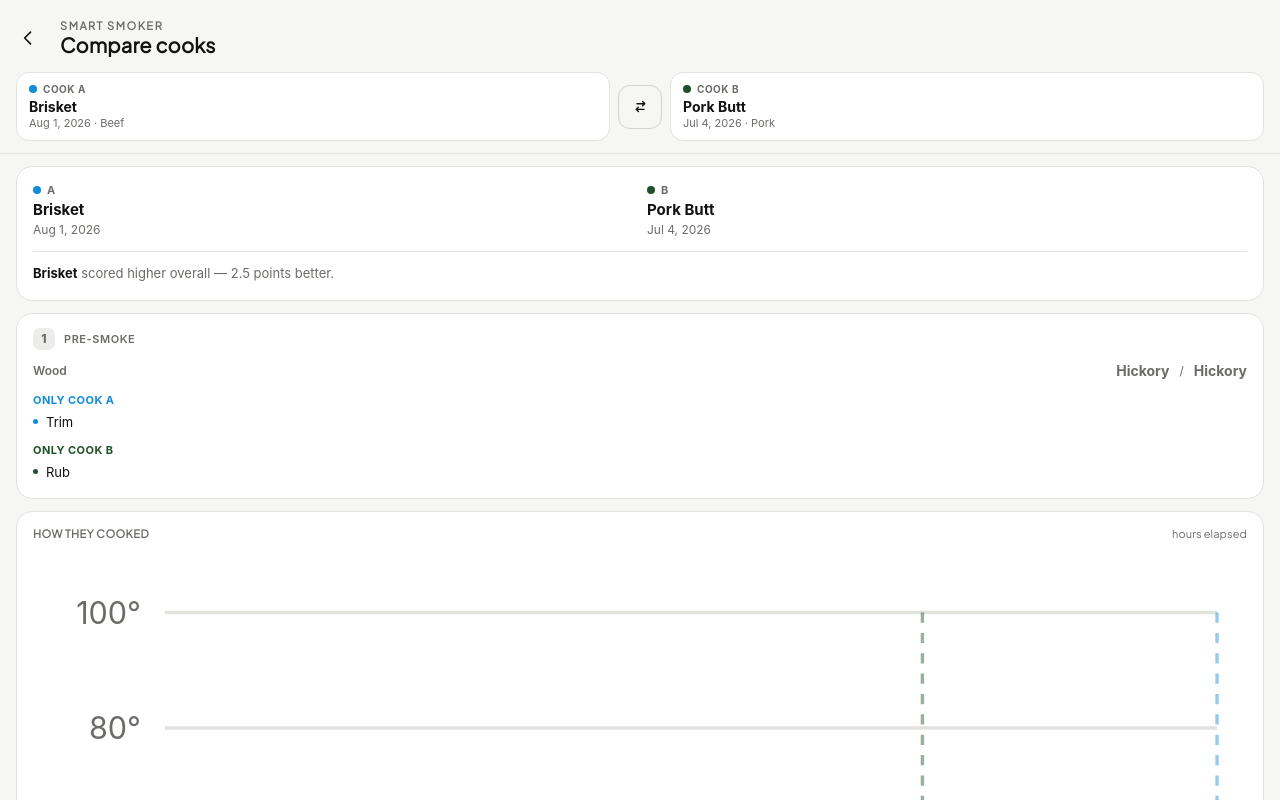
Test: CompareScreen › the cook in the other slot is offered as in use rather than as a choice
This screenshot has width=1280, height=800.
Expected: the element with test id "compare-summary" is shown, 16,166 -> 1264,300
Click the button with aria-label "Change cook B": [714, 89] box 670,72 -> 1264,141
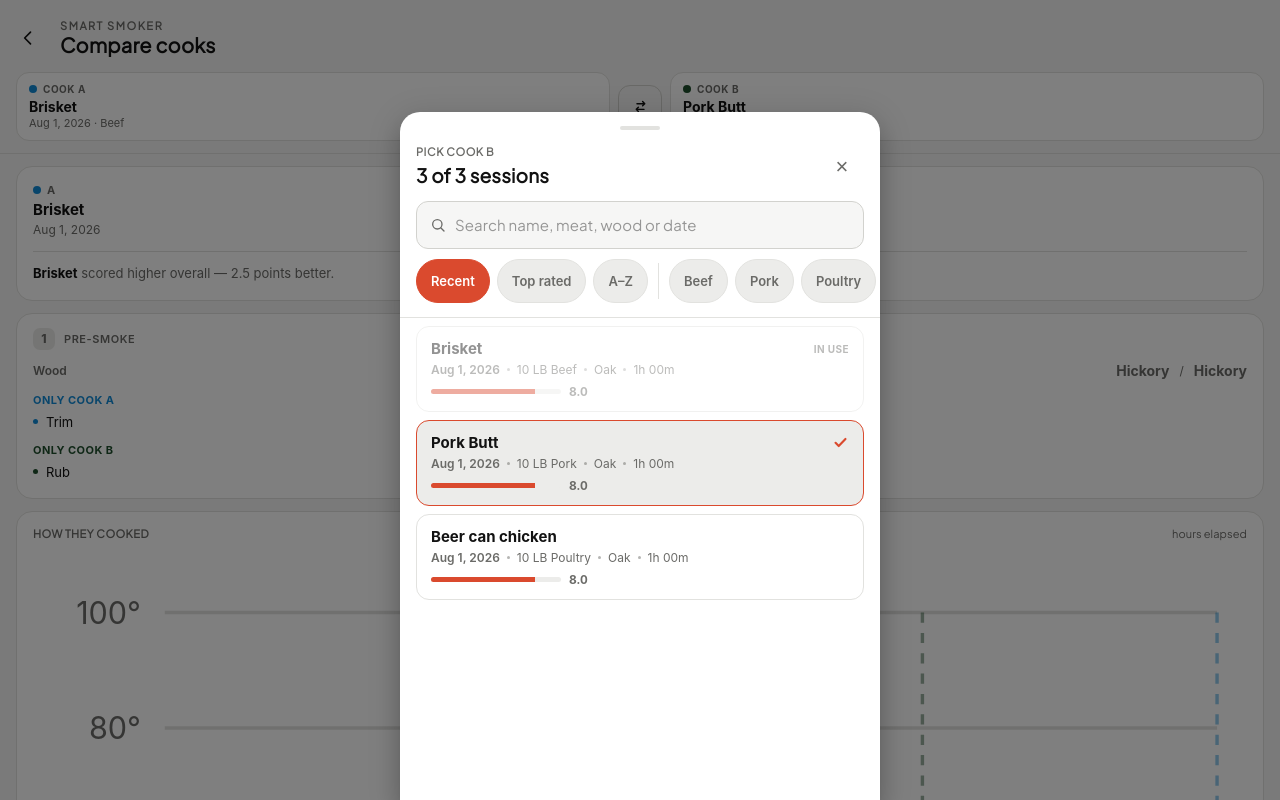
Expected: the dialog with test id "cook-picker" shows "PICK COOK B", 400,112 -> 880,799
Expected: the button with aria-label "Pick Brisket" shows "IN USE", 416,326 -> 864,412
Expected: the button with aria-label "Pick Brisket" is disabled, 416,326 -> 864,412
